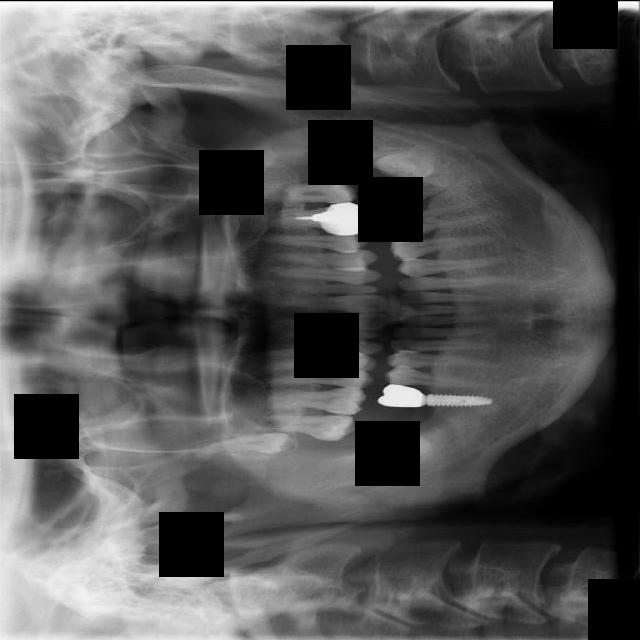3M ESPE Implant: (198, 428, 296, 463)
52: (379, 208, 433, 243), (321, 201, 366, 235), (377, 381, 424, 409), (310, 414, 356, 440)
73: (573, 36, 582, 40)
BioHorizons Implant: (237, 175, 358, 204)
Biomet 3i Implant: (372, 139, 443, 189)
Blue Sky Bio Implant: (364, 173, 464, 214)
Caries: (246, 412, 356, 441)
Keystone Dental Implant: (371, 428, 437, 466)
